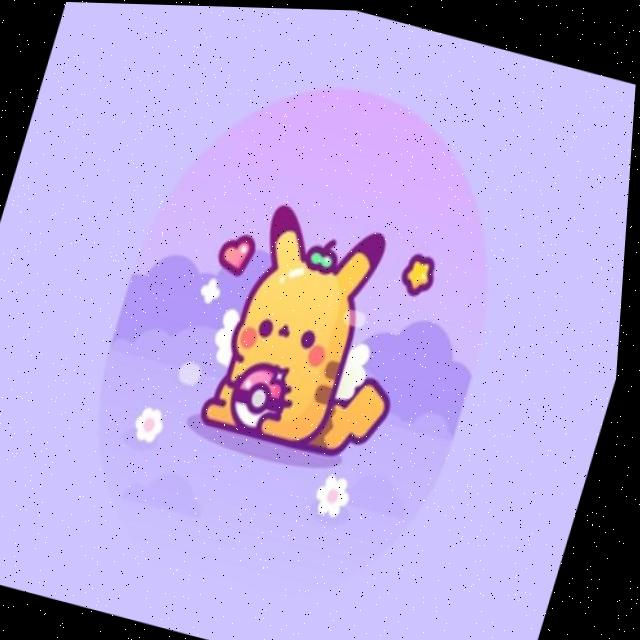Pikachu: (46, 52, 590, 631)
